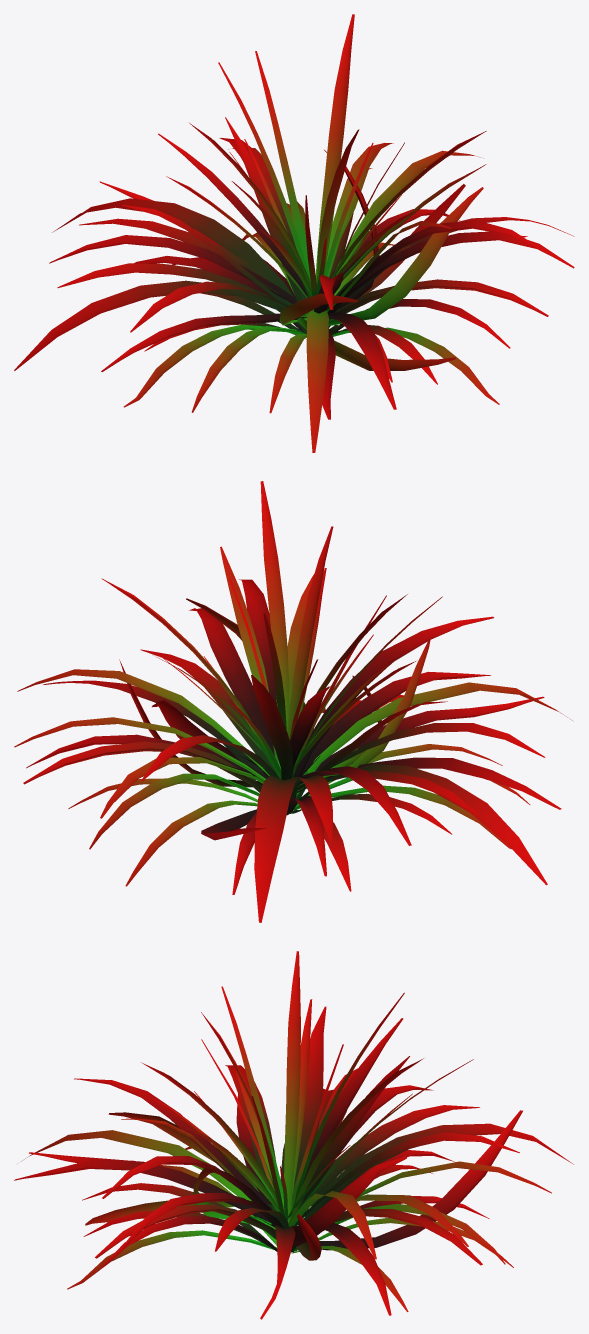
Rendered from Ribbon Plant_LOD1_Var1_rhDrj.fbx.
3 views of the same model, one above another, from view 1: azimuth 30°, elevation 25°; view 2: azimuth 150°, elevation 25°; view 3: azimuth 270°, elevation 25° (orthographic). The views are drawn at different scales.
Parts seen in each view (by area): view 1: _1e44_Var1_LOD1; view 2: _1e44_Var1_LOD1; view 3: _1e44_Var1_LOD1.
Boxes of the visible parts, x1,y1,x2,y2 form: _1e44_Var1_LOD1: (14, 14, 574, 452); _1e44_Var1_LOD1: (14, 481, 573, 922); _1e44_Var1_LOD1: (14, 951, 573, 1319).
Bounding box in the file's own units: 59.28 × 27.18 × 55.59.
